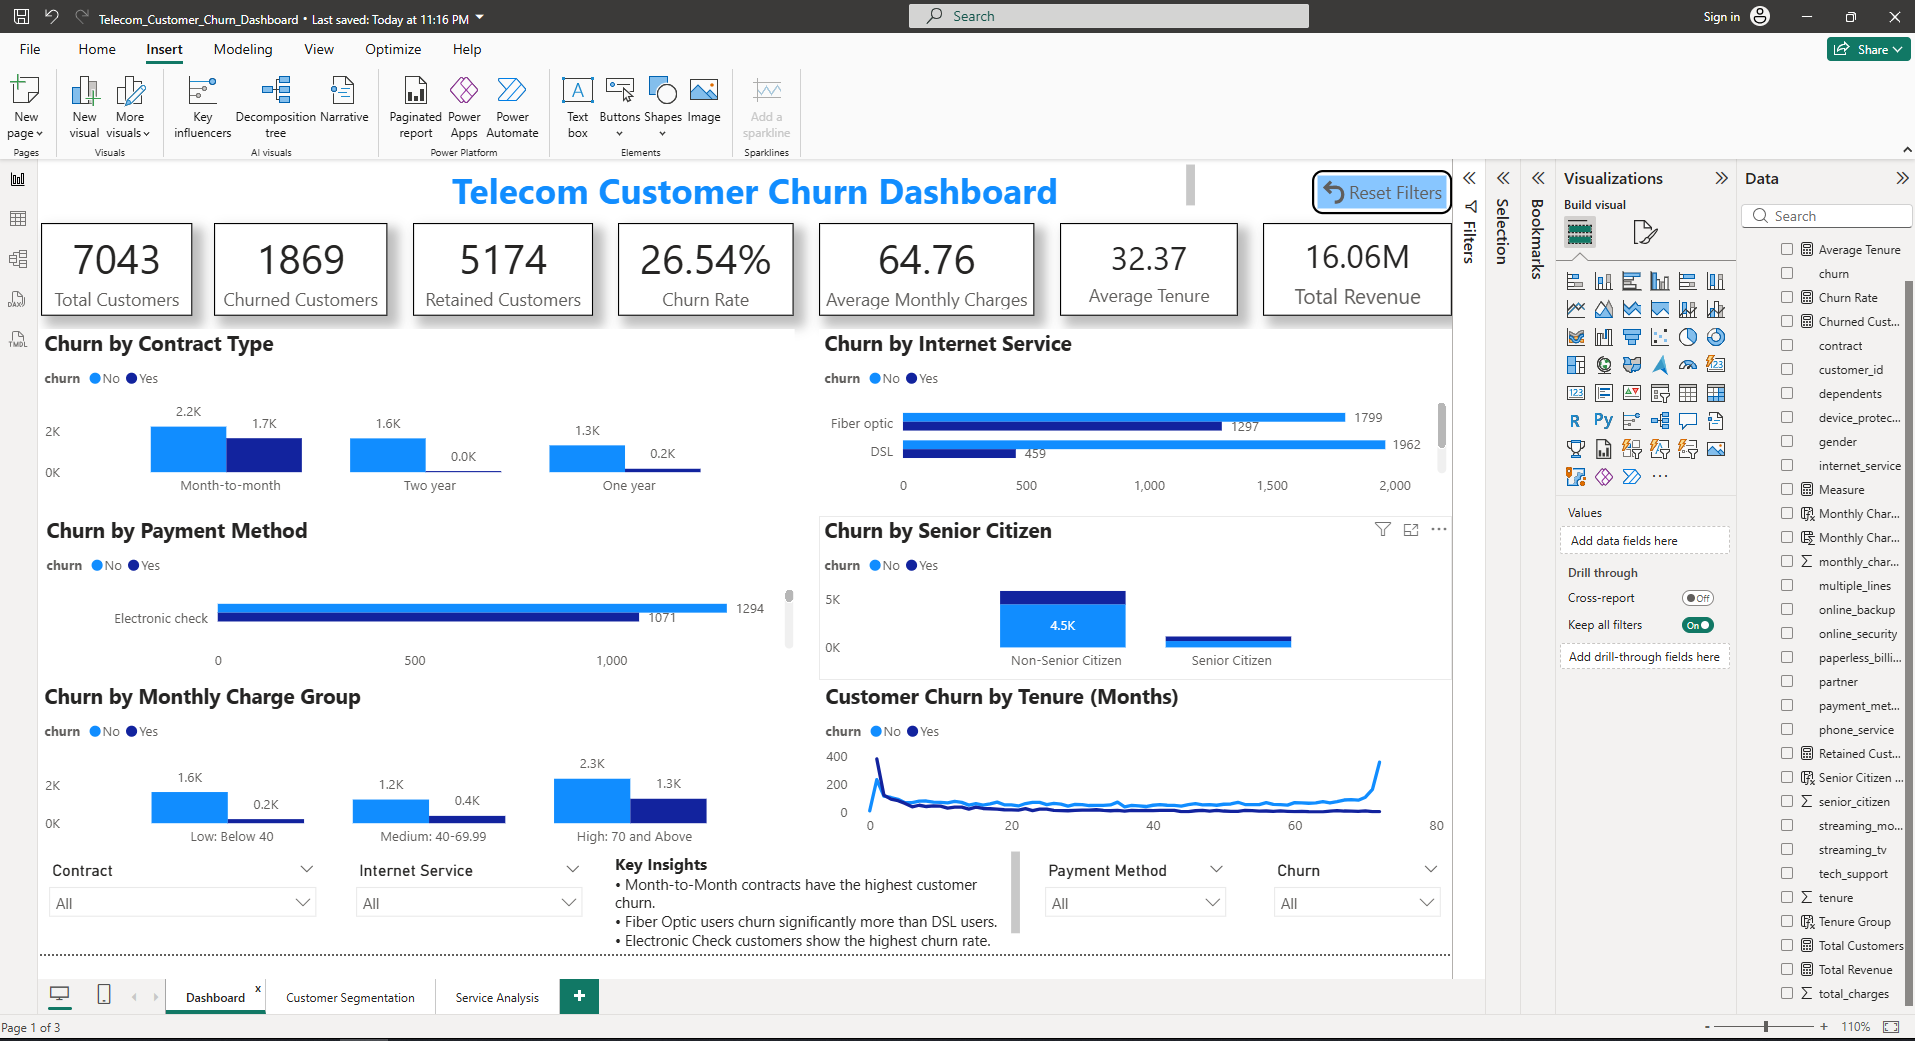

What the dashboard file says about the page in this screenshot:
{"tool":"powerbi","page":{"name":"Dashboard","canvas":[1280,720],"ordinal":0},"visuals":[{"type":"textbox","box":[369.3,0,683.5,49.8],"z":0},{"type":"card","fields":{"Values":["telecom_customer_churn.Total Customers"]},"box":[2.7,57.6,137.4,84.2],"z":1000},{"type":"card","fields":{"Values":["telecom_customer_churn.Churned Customers"]},"box":[159.6,57.6,156.9,84.2],"z":2000},{"type":"card","fields":{"Values":["telecom_customer_churn.Retained Customers"]},"box":[339.6,57.6,163.2,84.2],"z":3000},{"type":"card","fields":{"Values":["telecom_customer_churn.Churn Rate"]},"box":[524.9,57.6,158.7,84.2],"z":4000},{"type":"card","fields":{"Values":["telecom_customer_churn.Average Monthly Charges"]},"box":[706.7,57.6,195.1,84.2],"z":5000},{"type":"card","fields":{"Values":["telecom_customer_churn.Average Tenure"]},"box":[924.8,57.6,161.4,84.2],"z":6000},{"type":"card","fields":{"Values":["telecom_customer_churn.Total Revenue"]},"box":[1109.3,57.6,171.1,84.2],"z":7000},{"type":"clusteredColumnChart","title":"Churn by Contract Type","fields":{"Category":["telecom_customer_churn.contract"],"Y":["CountNonNull(telecom_customer_churn.customer_id)"],"Series":["telecom_customer_churn.churn"]},"box":[0.9,154.3,683.6,159.6],"z":8000},{"type":"clusteredBarChart","title":"Churn by Internet Service","fields":{"Category":["telecom_customer_churn.internet_service"],"Y":["CountNonNull(telecom_customer_churn.customer_id)"],"Series":["telecom_customer_churn.churn"]},"box":[706.7,154.3,572.8,159.6],"z":9000},{"type":"clusteredBarChart","title":"Churn by Payment Method","fields":{"Category":["telecom_customer_churn.payment_method"],"Y":["CountNonNull(telecom_customer_churn.customer_id)"],"Series":["telecom_customer_churn.churn"]},"box":[2.7,322.8,686.3,149],"z":10000},{"type":"columnChart","title":"Churn by Senior Citizen","fields":{"Category":["telecom_customer_churn.Senior Citizen Status"],"Series":["telecom_customer_churn.churn"],"Y":["CountNonNull(telecom_customer_churn.customer_id)"]},"box":[706.7,322.8,573.7,149],"z":11000},{"type":"lineChart","title":"Customer Churn by Tenure (Months)","fields":{"Category":["telecom_customer_churn.tenure"],"Y":["CountNonNull(telecom_customer_churn.customer_id)"],"Series":["telecom_customer_churn.churn"]},"box":[707.6,473.5,572.8,148.1],"z":12000},{"type":"clusteredColumnChart","title":"Churn by Monthly Charge Group","fields":{"Category":["telecom_customer_churn.Monthly Charge Group"],"Y":["CountNonNull(telecom_customer_churn.customer_id)"],"Series":["telecom_customer_churn.churn"]},"box":[0.9,473.5,689.9,157.8],"z":13000},{"type":"slicer","fields":{"Values":["telecom_customer_churn.contract"]},"box":[0,631.3,262.5,88.7],"z":14000},{"type":"slicer","fields":{"Values":["telecom_customer_churn.internet_service"]},"box":[277.5,631.3,225.2,88.7],"z":15000},{"type":"slicer","fields":{"Values":["telecom_customer_churn.payment_method"]},"box":[901.8,631.3,184.4,88.7],"z":16000},{"type":"slicer","fields":{"Values":["telecom_customer_churn.churn"]},"box":[1109.3,631.3,171.1,78.9],"z":17000},{"type":"textbox","box":[516.9,621.6,376.8,98.4],"z":18000},{"type":"actionButton","box":[1153.3,10,126.7,39.8],"z":19000}]}

Visuals, with their boxes on the page's 1280x720 design canvas (x1, y1, x2, y2). These are canvas units, not pixel positions in the 1915x1041 screenshot, which may show the page scaled, cropped or inside an application window:
textbox: left=369, top=0, right=1053, bottom=50
card - telecom_customer_churn.Total Customers: left=3, top=58, right=140, bottom=142
card - telecom_customer_churn.Churned Customers: left=160, top=58, right=316, bottom=142
card - telecom_customer_churn.Retained Customers: left=340, top=58, right=503, bottom=142
card - telecom_customer_churn.Churn Rate: left=525, top=58, right=684, bottom=142
card - telecom_customer_churn.Average Monthly Charges: left=707, top=58, right=902, bottom=142
card - telecom_customer_churn.Average Tenure: left=925, top=58, right=1086, bottom=142
card - telecom_customer_churn.Total Revenue: left=1109, top=58, right=1280, bottom=142
"Churn by Contract Type" clusteredColumnChart: left=1, top=154, right=684, bottom=314
"Churn by Internet Service" clusteredBarChart: left=707, top=154, right=1280, bottom=314
"Churn by Payment Method" clusteredBarChart: left=3, top=323, right=689, bottom=472
"Churn by Senior Citizen" columnChart: left=707, top=323, right=1280, bottom=472
"Customer Churn by Tenure (Months)" lineChart: left=708, top=474, right=1280, bottom=622
"Churn by Monthly Charge Group" clusteredColumnChart: left=1, top=474, right=691, bottom=631
slicer - telecom_customer_churn.contract: left=0, top=631, right=262, bottom=720
slicer - telecom_customer_churn.internet_service: left=278, top=631, right=503, bottom=720
slicer - telecom_customer_churn.payment_method: left=902, top=631, right=1086, bottom=720
slicer - telecom_customer_churn.churn: left=1109, top=631, right=1280, bottom=710
textbox: left=517, top=622, right=894, bottom=720
actionButton: left=1153, top=10, right=1280, bottom=50
